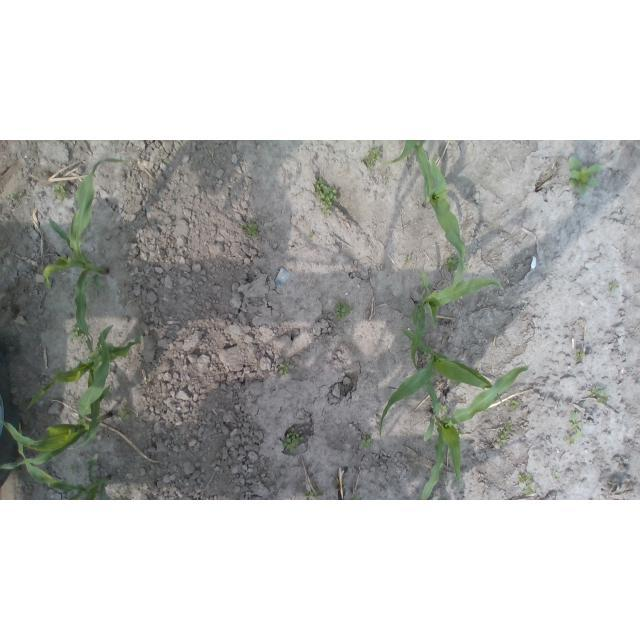Maize: (40, 156, 133, 354), (420, 364, 532, 501), (377, 325, 507, 439), (27, 326, 144, 451), (0, 413, 114, 500), (411, 269, 506, 372), (412, 141, 468, 292), (380, 142, 426, 167)
Weeds: (567, 156, 602, 197), (313, 179, 340, 218), (281, 428, 308, 455), (565, 411, 583, 445), (497, 420, 513, 446), (363, 147, 381, 170), (521, 472, 536, 495), (592, 386, 609, 404), (337, 302, 352, 320), (52, 184, 66, 203), (445, 257, 462, 271), (244, 223, 259, 237), (503, 398, 519, 411), (306, 489, 322, 499), (361, 435, 373, 448), (278, 363, 289, 377), (71, 326, 82, 339), (610, 278, 619, 291), (9, 193, 20, 202), (70, 464, 81, 473), (120, 412, 130, 420), (576, 351, 584, 361), (350, 495, 363, 500), (552, 470, 559, 478)
